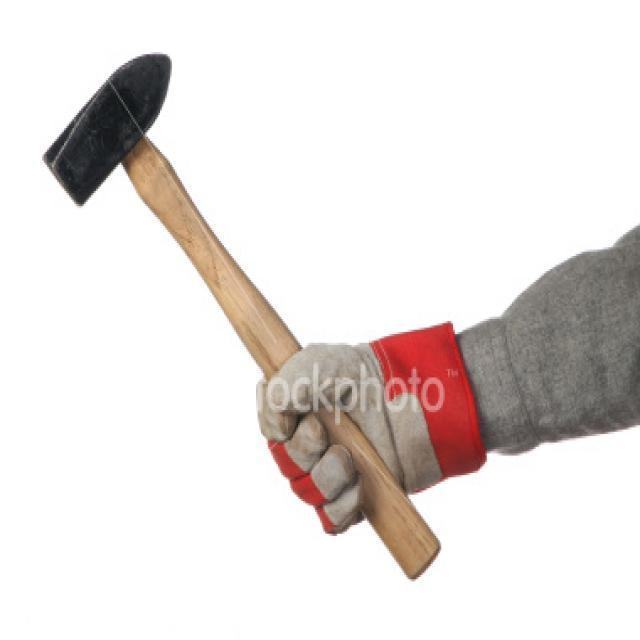hammer: (24, 36, 448, 588)
